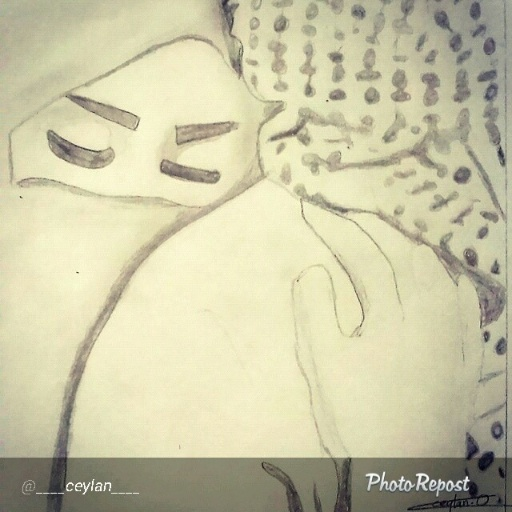hand: (288, 197, 484, 508)
